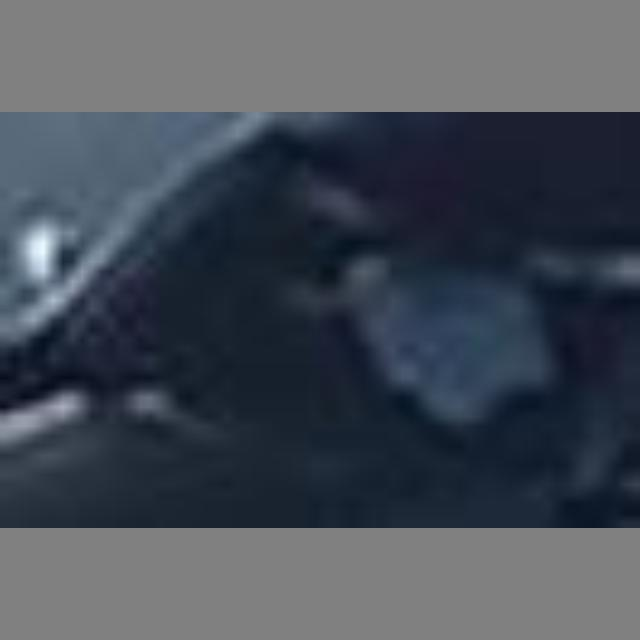tidak-pakai: (204, 219, 562, 461)
